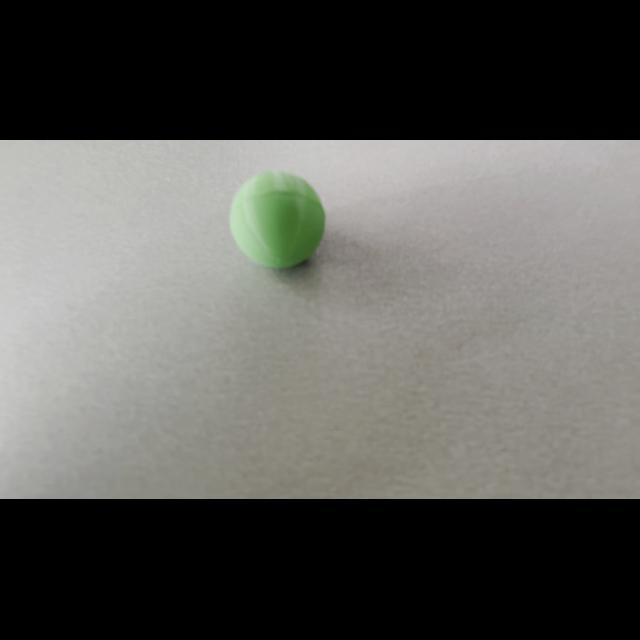objects: (224, 163, 330, 273)
